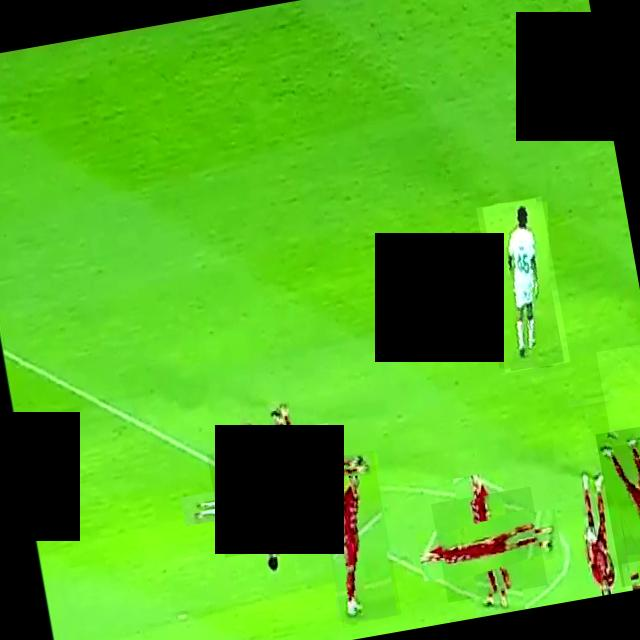referee: (594, 341, 640, 445)
soccer-player: (474, 195, 568, 372), (312, 449, 400, 624), (205, 434, 327, 556), (429, 486, 546, 602), (236, 422, 342, 528), (593, 421, 640, 586), (620, 556, 640, 591)
